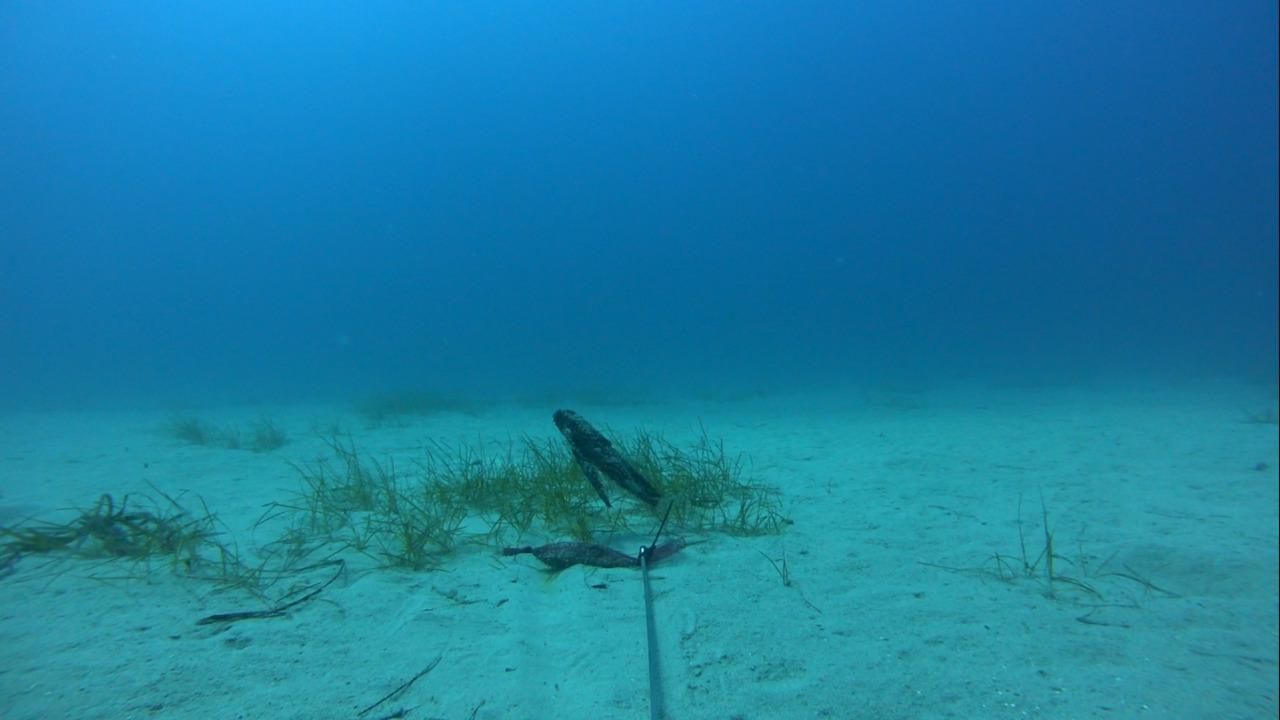dactylopterus: (547, 399, 670, 521)
